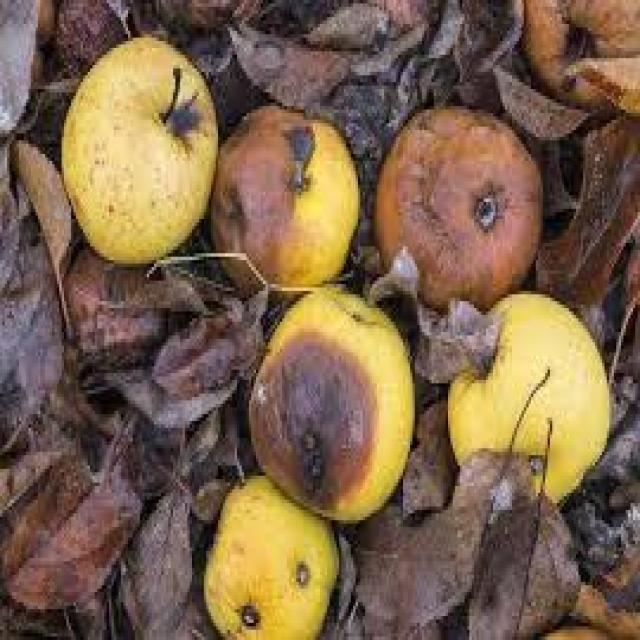organic waste: (244, 284, 417, 524), (59, 28, 216, 278), (370, 99, 548, 315), (446, 291, 606, 510), (69, 284, 242, 455), (211, 103, 358, 284), (2, 431, 140, 623), (202, 462, 346, 637), (450, 462, 590, 637), (0, 137, 62, 455), (552, 124, 638, 312), (519, 0, 638, 120)
